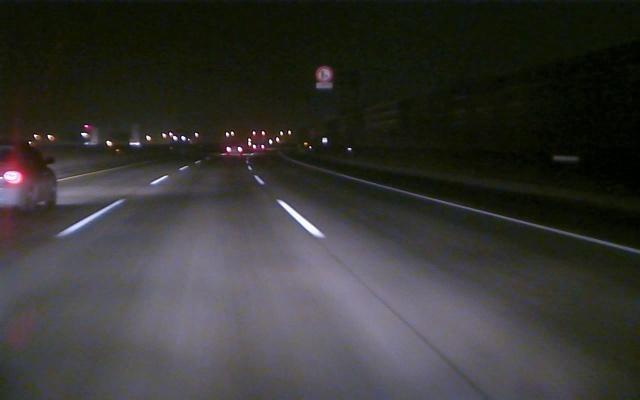lane: (317, 168, 639, 255), (54, 175, 165, 238), (254, 175, 326, 238)
